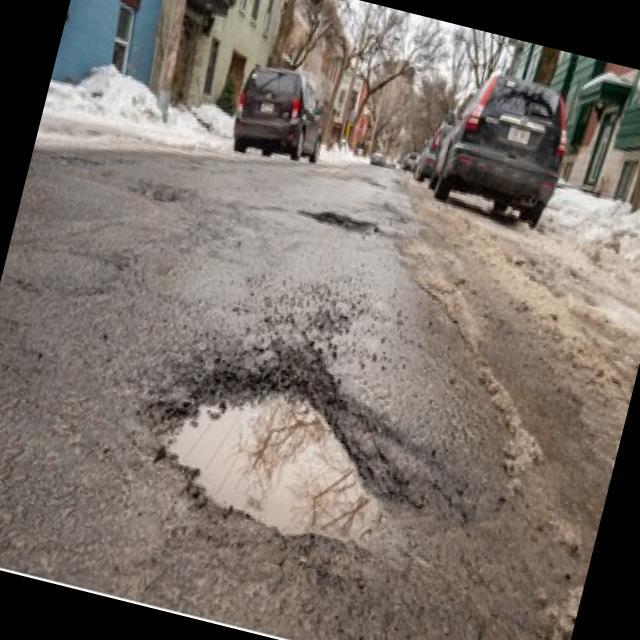Pothole: (122, 308, 442, 572), (294, 202, 379, 239)
